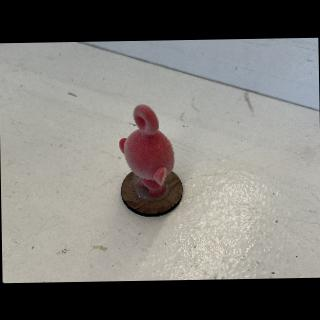teletubby: (119, 104, 174, 197)
